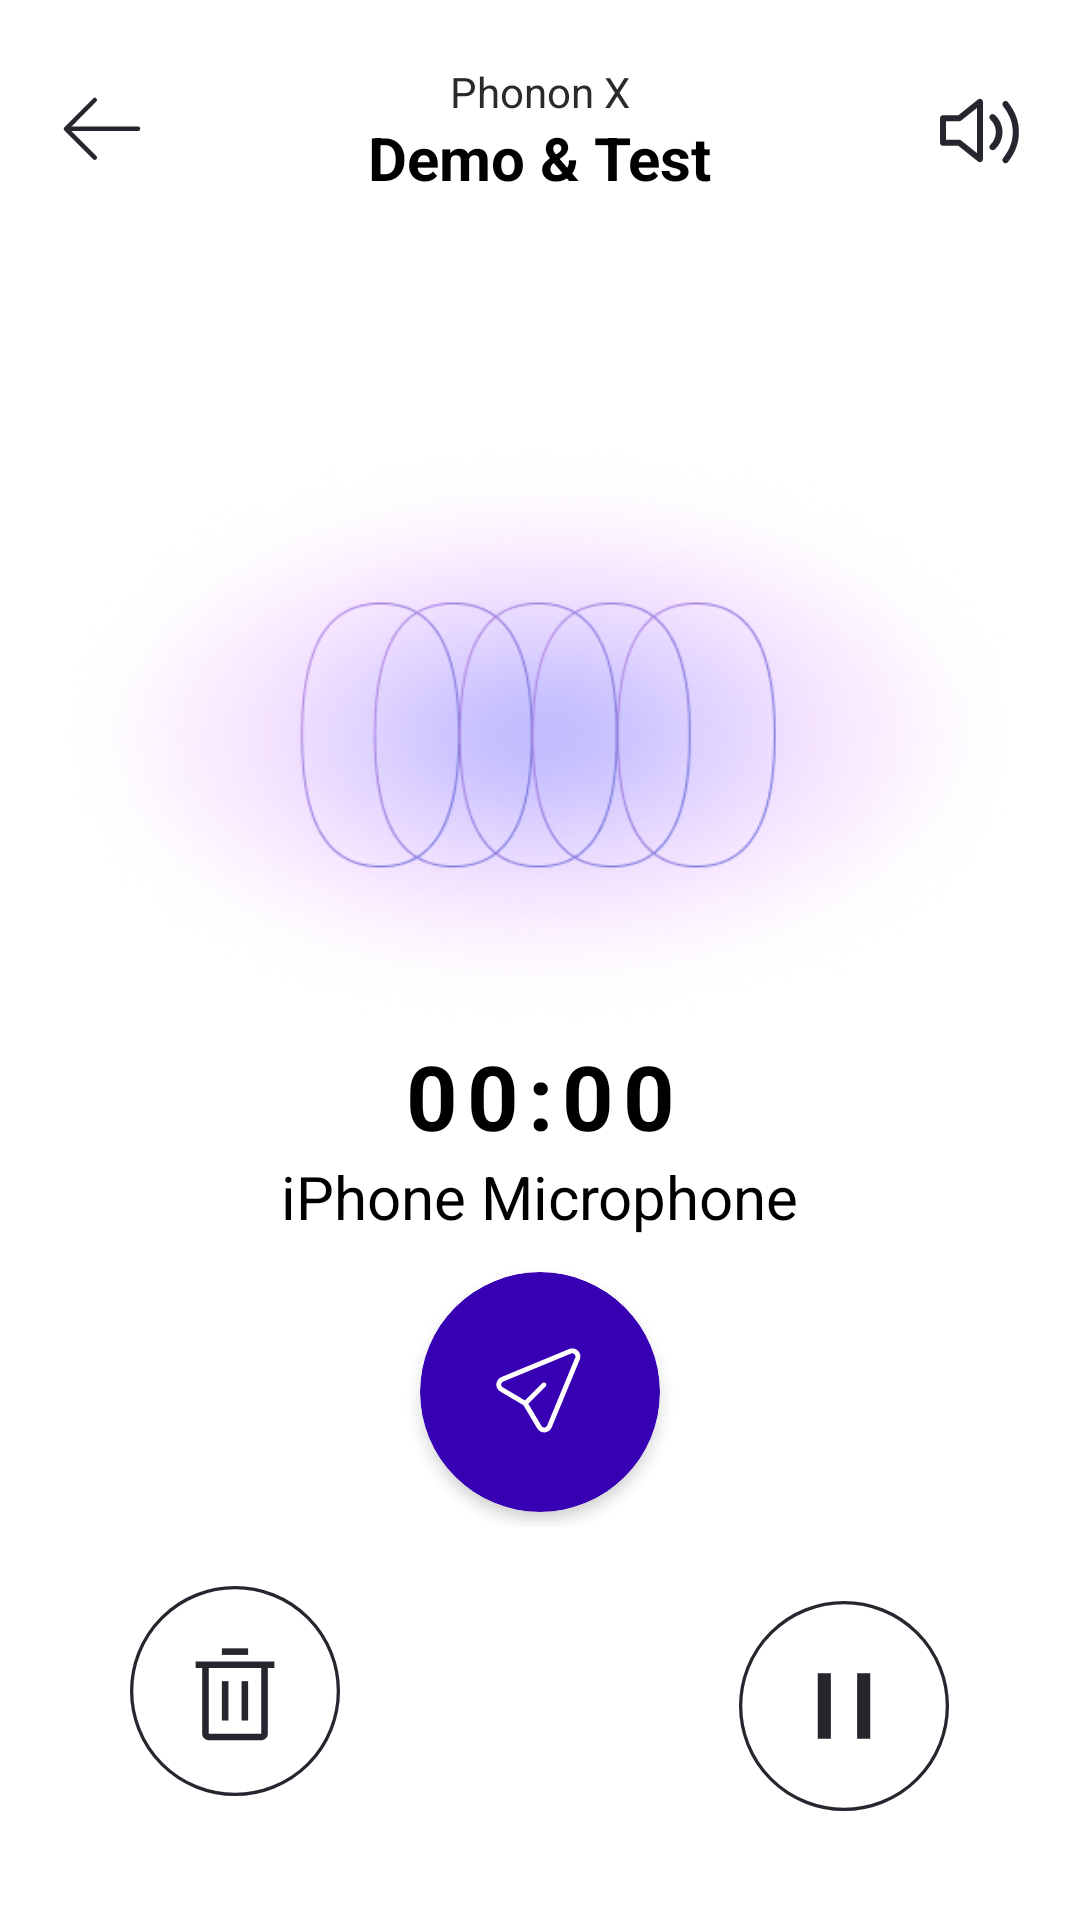

Icon click points for this 1080 x 1920 phone screenshot, format (x,y):
brand back: (102,128)
brand recording pause: (844,1706)
brand recording trash: (235,1691)
brand send: (538,1390)
brand speaker: (979,131)
